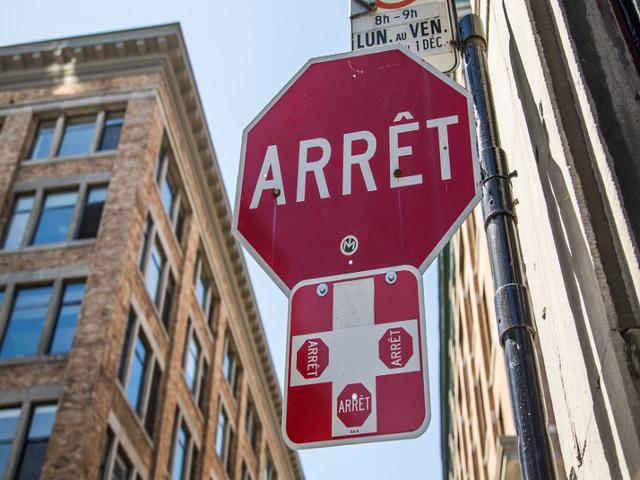stop: (226, 50, 494, 294)
